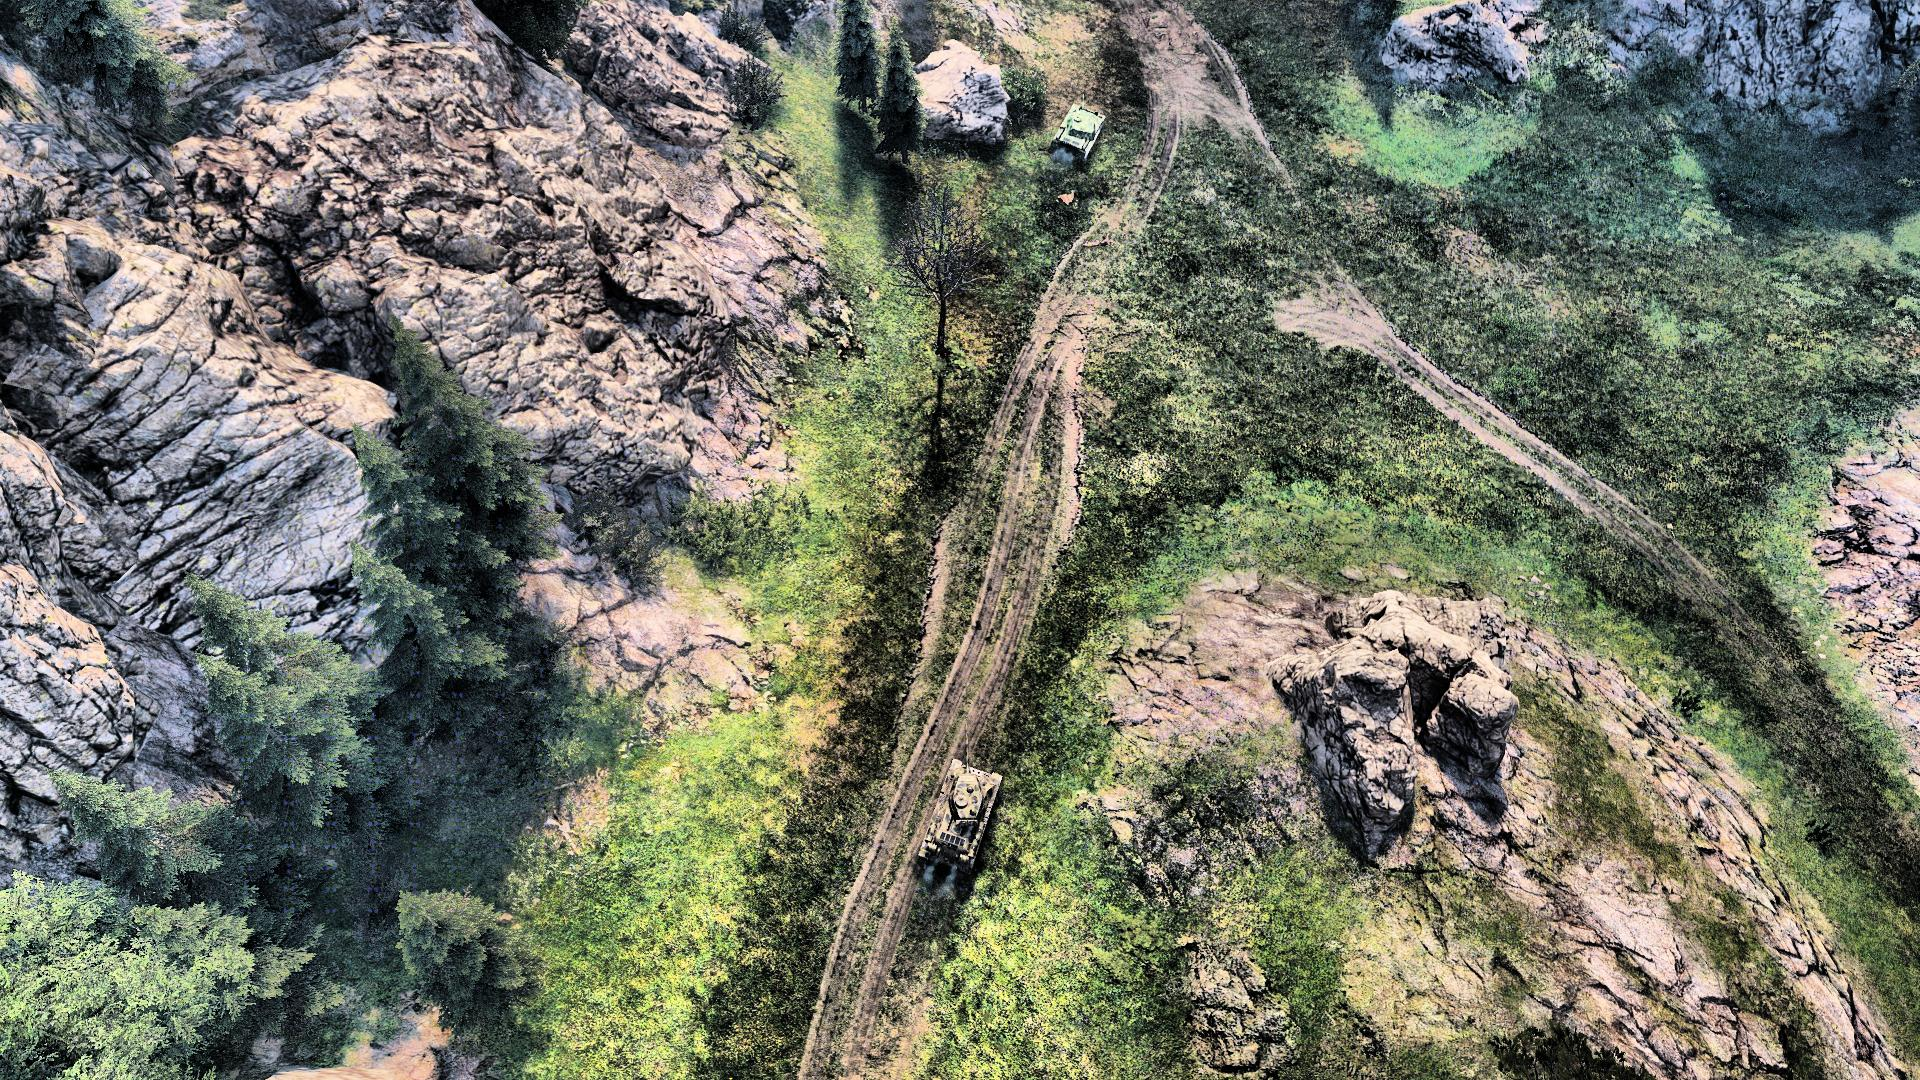military-vehicle: (916, 732, 1004, 880), (1050, 99, 1101, 164)
